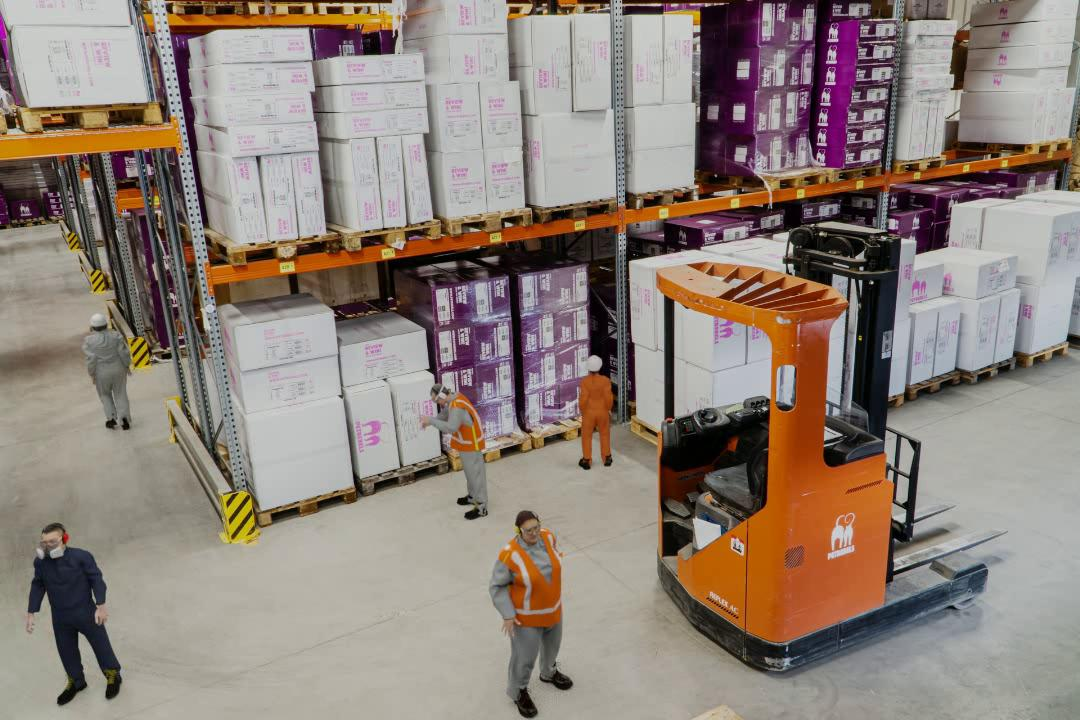Goggles: (520, 520, 555, 533)
Helmet: (586, 354, 602, 372)
Jacket: (504, 536, 578, 631), (443, 405, 490, 456)
Shoes: (97, 665, 131, 704), (53, 676, 92, 709), (462, 504, 492, 524), (454, 488, 481, 506), (575, 452, 593, 472), (600, 451, 614, 467)
